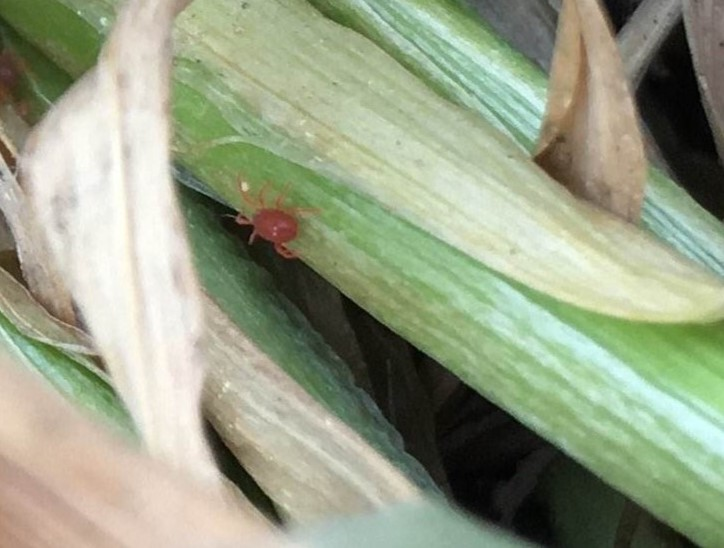Wheat Red Spider: (221, 171, 330, 261)
